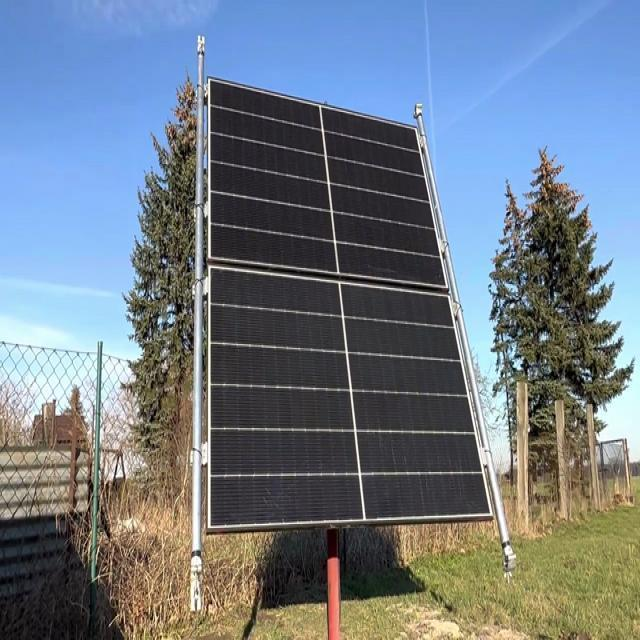Normal Solar Panel: (207, 77, 494, 529)
